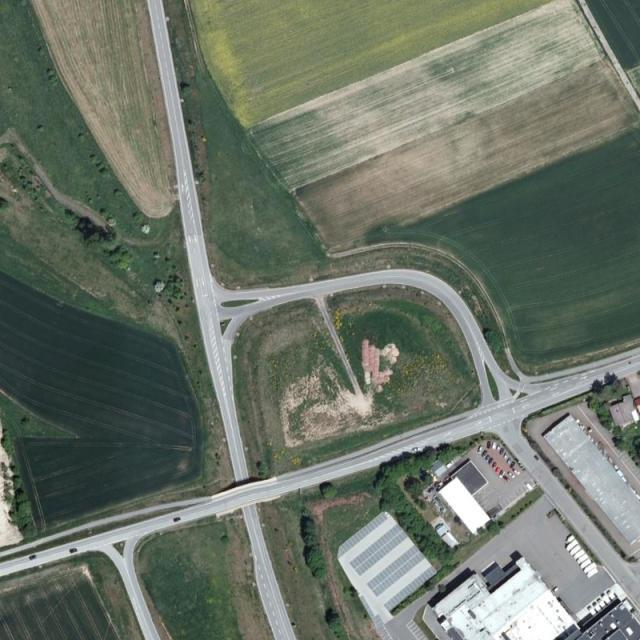vehicle: (411, 447, 421, 453), (503, 475, 511, 482), (513, 469, 521, 476), (508, 472, 516, 479), (498, 470, 505, 478), (494, 466, 501, 474), (488, 457, 495, 465), (482, 450, 489, 458), (477, 446, 484, 454), (510, 461, 516, 469), (492, 462, 498, 470), (30, 554, 38, 560), (70, 548, 78, 554), (174, 517, 182, 523), (506, 458, 512, 465), (486, 454, 491, 462), (497, 443, 502, 451), (500, 448, 505, 455), (493, 442, 497, 450), (487, 442, 491, 450), (504, 452, 508, 459)
